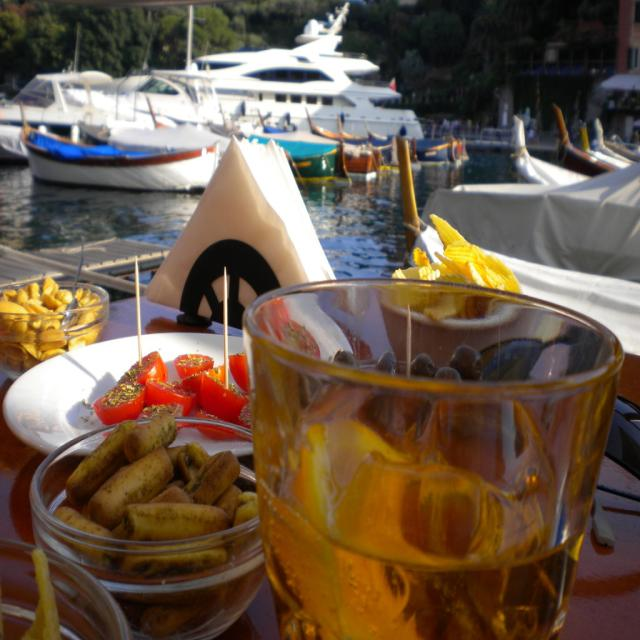Boat: (390, 134, 640, 454), (110, 1, 430, 165), (281, 4, 477, 168), (0, 68, 179, 201), (508, 104, 596, 183), (549, 98, 622, 174), (573, 114, 631, 178), (593, 112, 638, 173)
